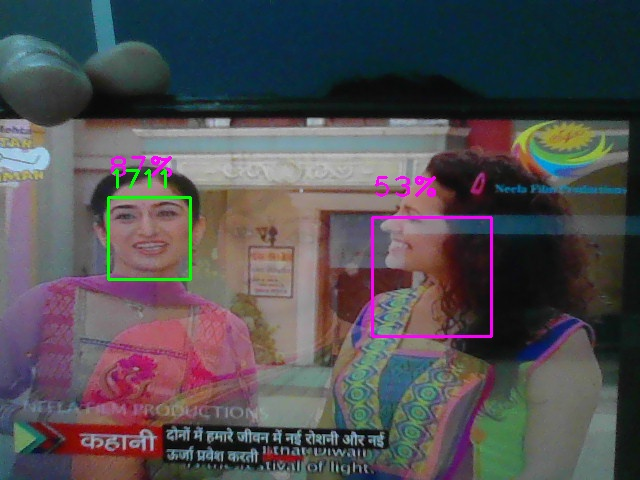fake: (108, 197, 191, 280)
